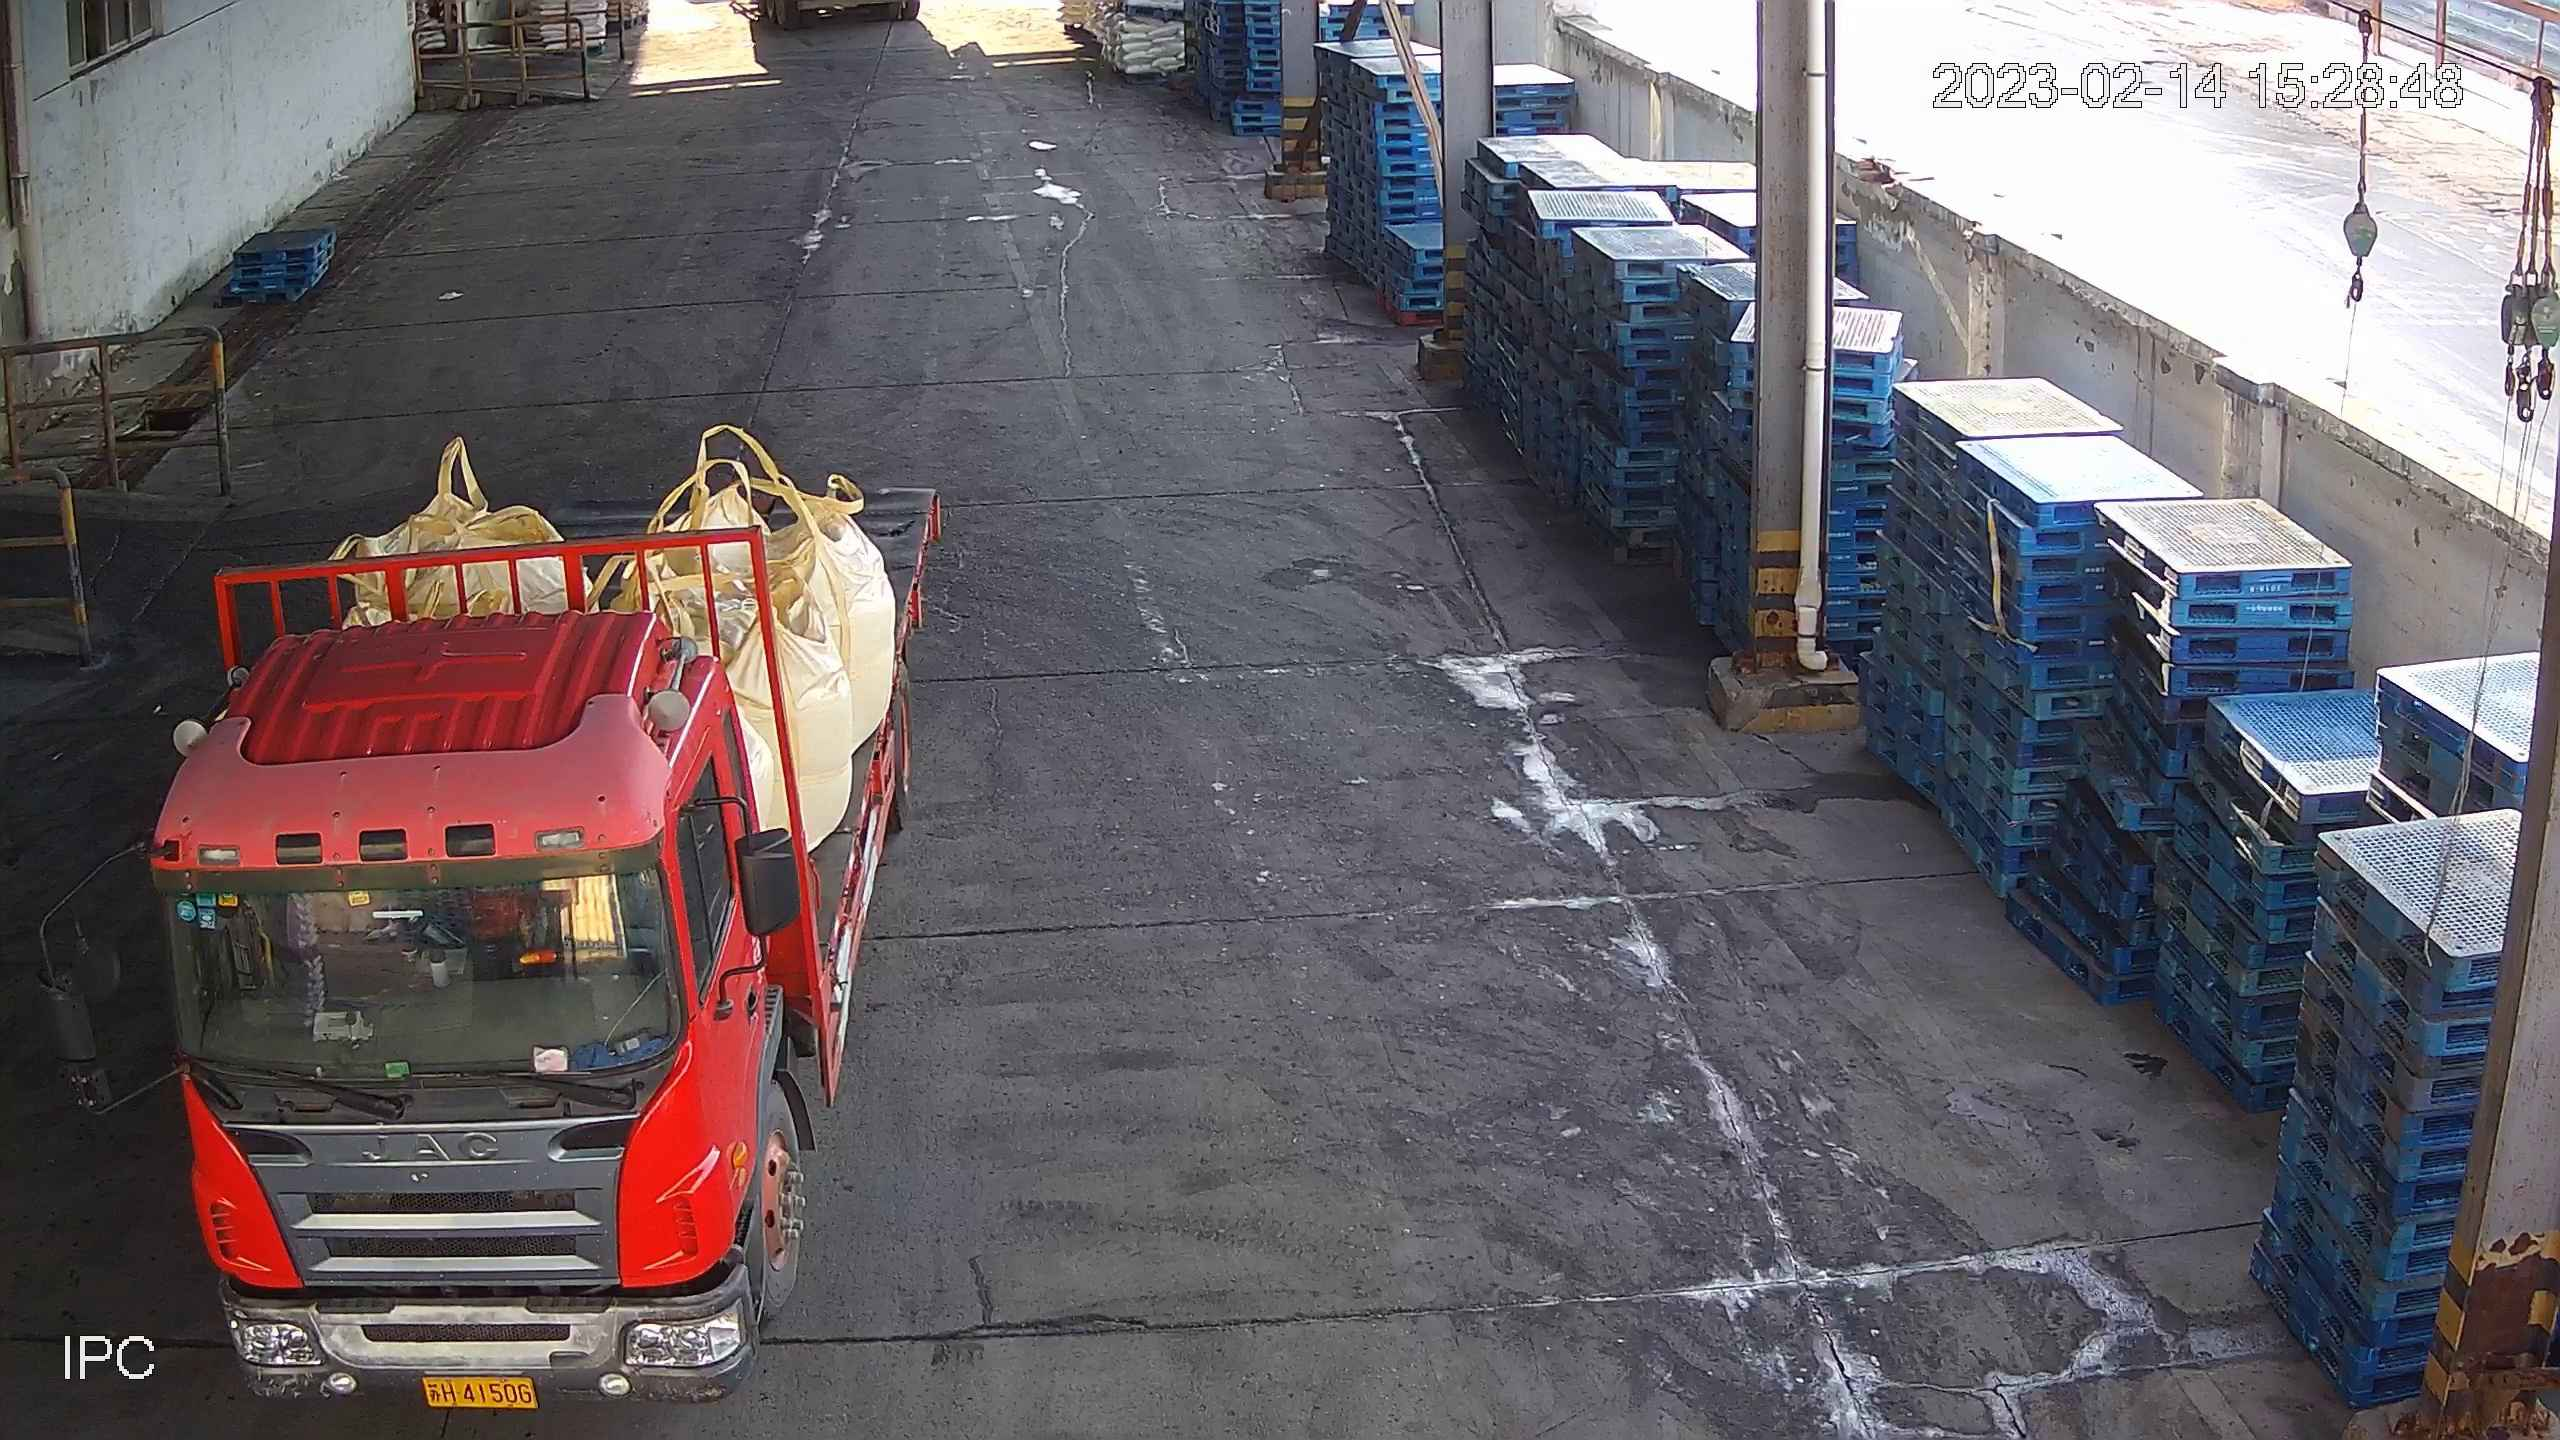truck: (35, 484, 948, 1410)
